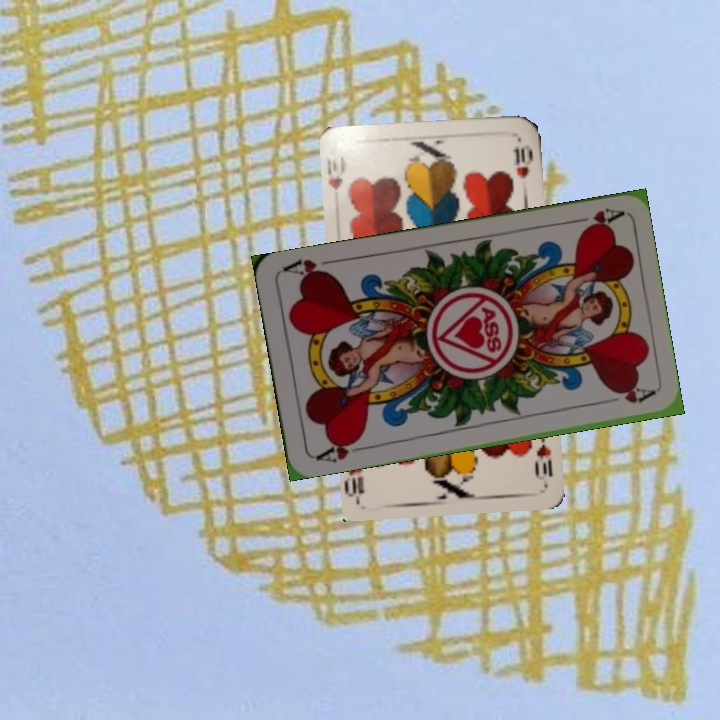H10: (530, 426, 555, 480), (324, 152, 348, 193)
HA: (311, 433, 370, 465), (565, 204, 624, 234)
